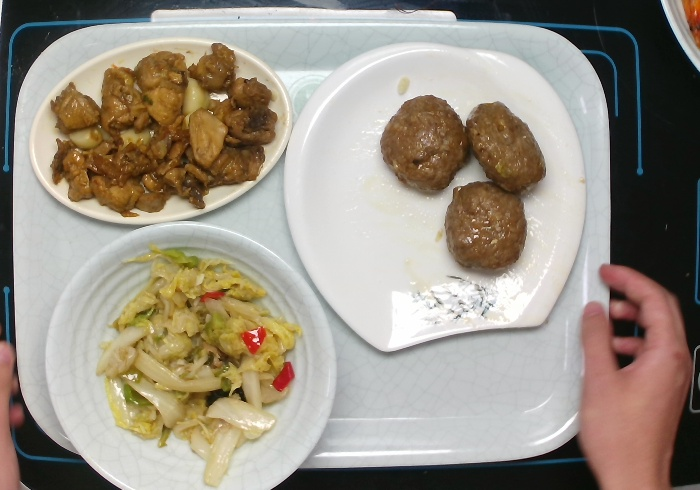JYsf-Mian_Pan: (280, 36, 592, 355)
JYsf-Tuo_Yuan_Wan: (24, 33, 297, 229)
JYsf-Xiao_Tang_Wan: (38, 217, 340, 490)
